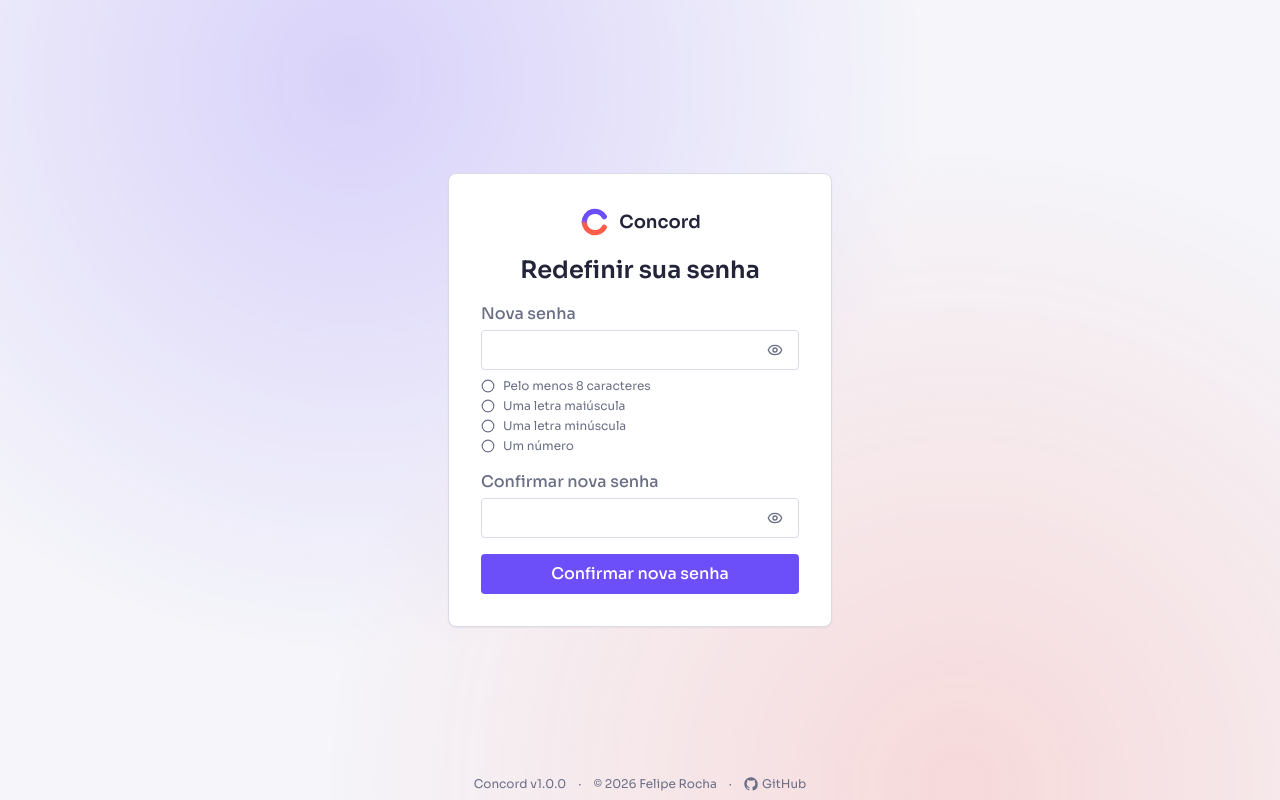
it: ResetPasswordPage › shows success after changing the password
The width and height of the screenshot is (1280, 800).
Expected: the heading "Redefinir sua senha" is shown, [520, 255, 760, 285]
In the password field labelled "Nova senha": (640, 350) [481, 330, 799, 370], type "NewPassword1"
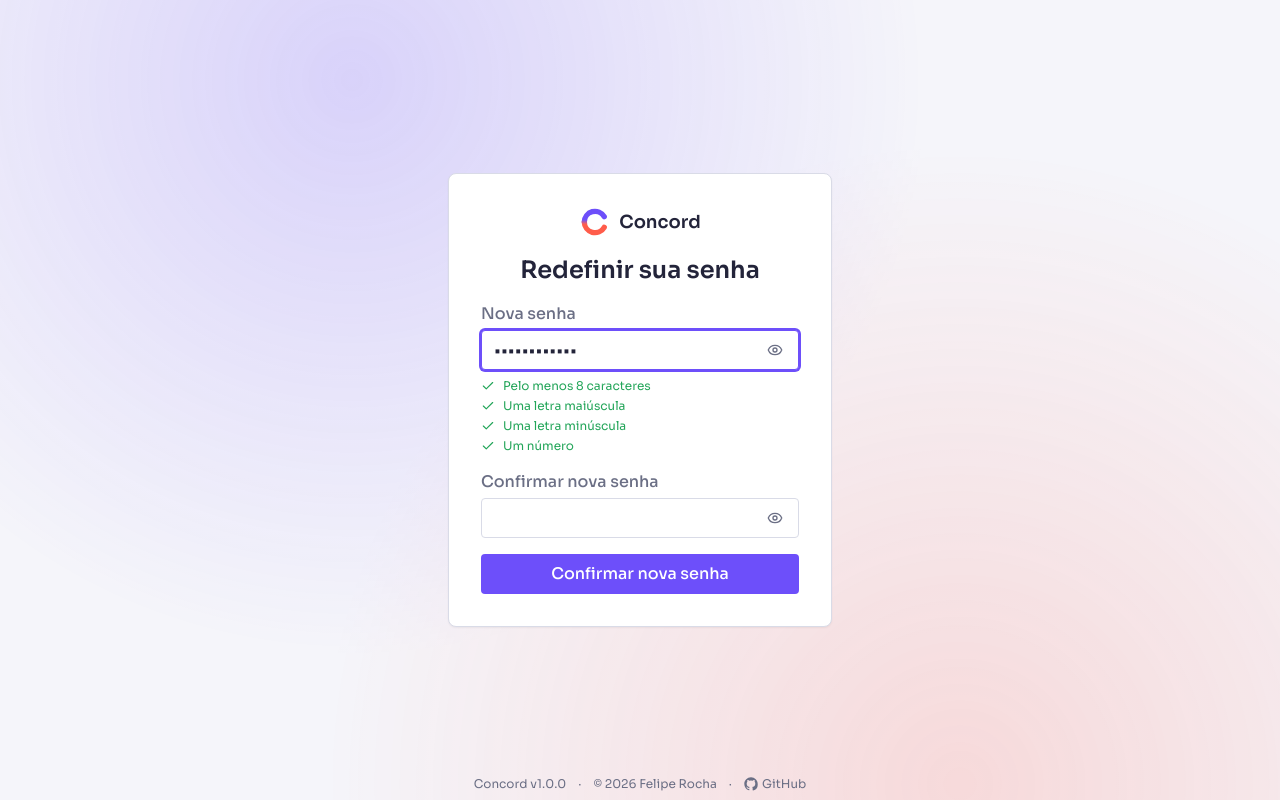
In the password field labelled "Confirmar nova senha": (640, 518) [481, 498, 799, 538], type "NewPassword1"
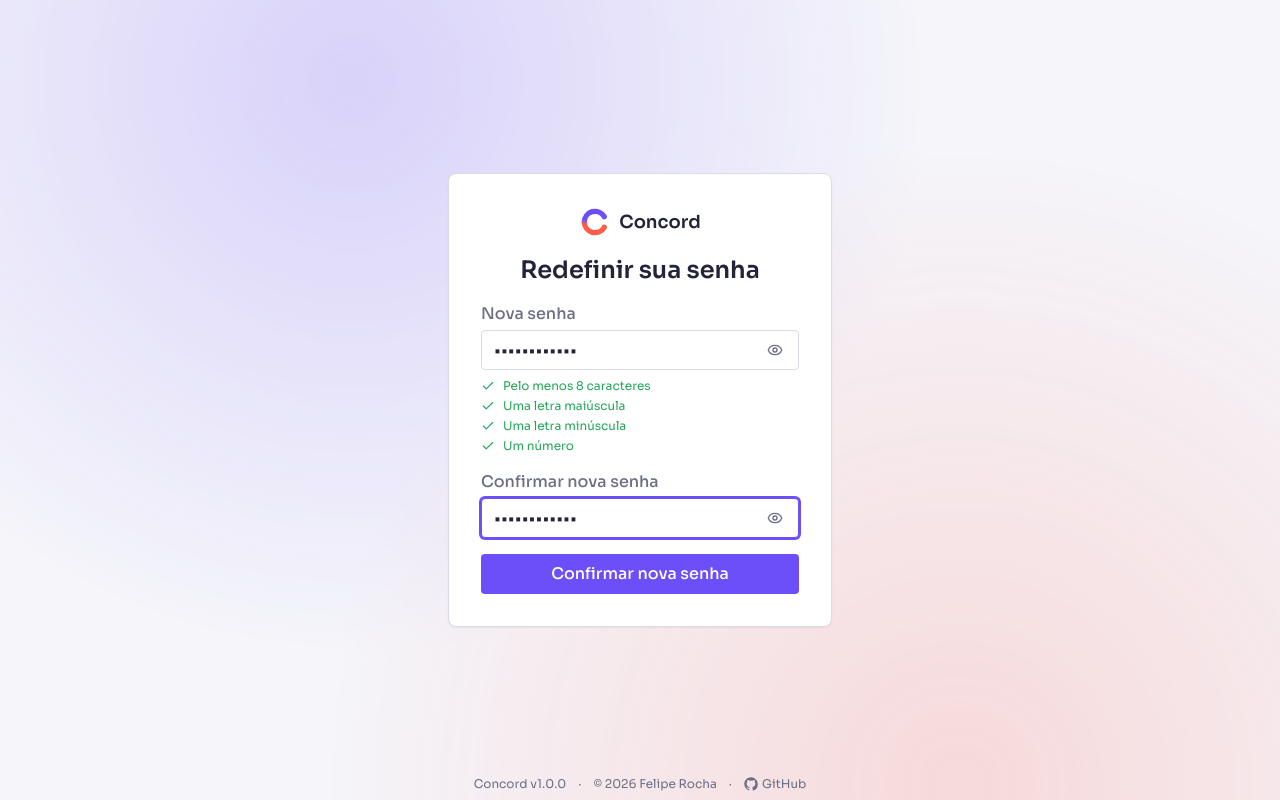
Click the button "Confirmar nova senha": click(640, 574) [481, 554, 799, 594]
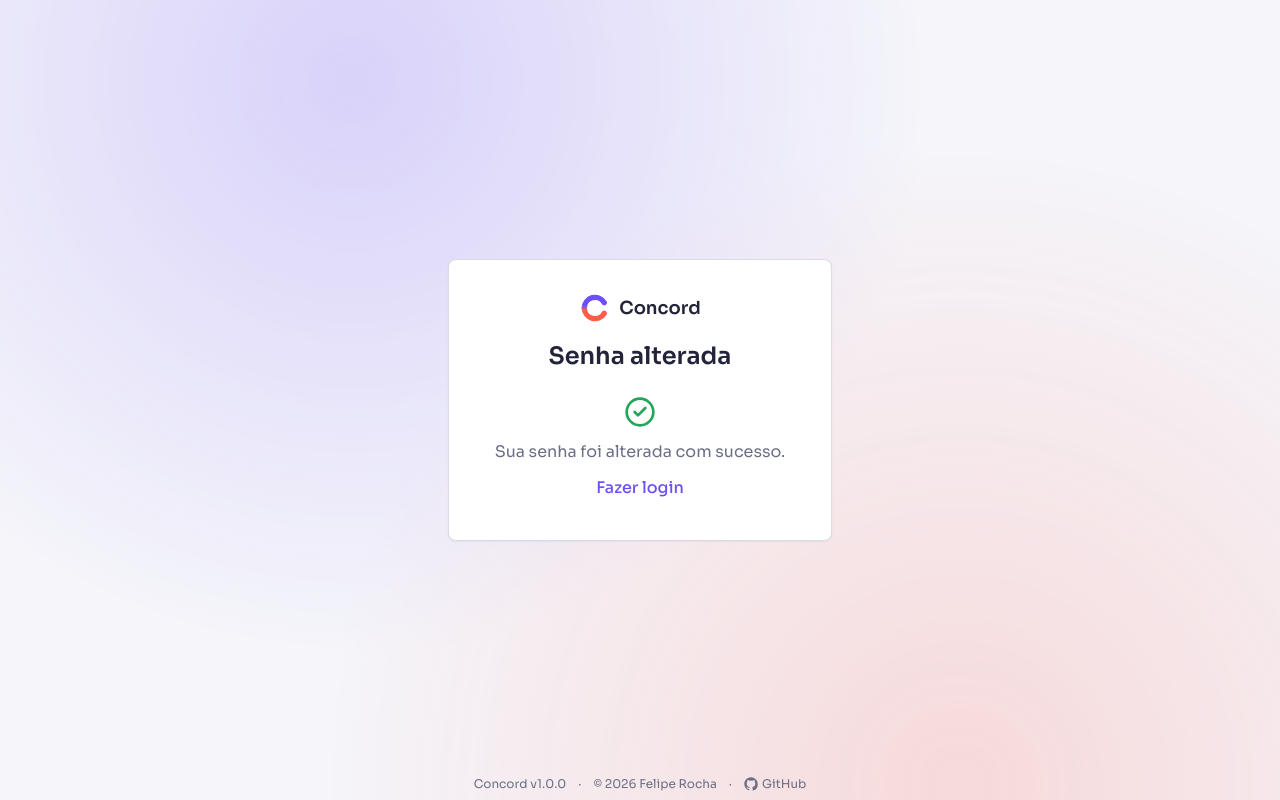
Result: the heading "Senha alterada" is shown at [548, 341, 732, 371]
